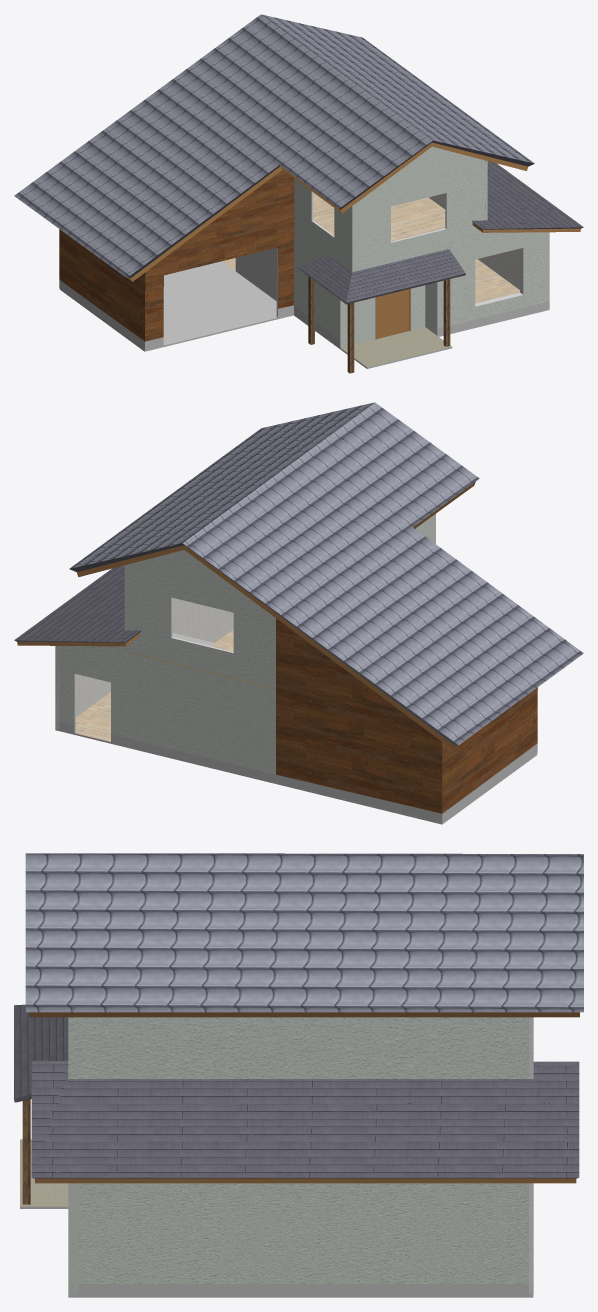
The model's file is house2.fbx.
The picture shows the model from 3 angles, top to bottom: view 1: azimuth 30°, elevation 25°; view 2: azimuth 150°, elevation 25°; view 3: azimuth 270°, elevation 25°; orthographic projection. The views are drawn at different scales.
Parts seen in each view (by area): view 1: 屋根１, 立方体, 床１, 玄関屋根, 屋根２, 床２, 立方体.001; view 2: 屋根１, 立方体, 屋根２, 床１, 床２; view 3: 屋根１, 立方体, 屋根２, 玄関屋根, 床１.
Boxes of the visible parts, x1,y1,x2,y2 form: 屋根１: [14, 14, 534, 281]; 立方体: [59, 146, 549, 350]; 床１: [59, 258, 549, 368]; 玄関屋根: [297, 249, 465, 373]; 屋根２: [472, 161, 583, 232]; 床２: [313, 192, 445, 271]; 立方体.001: [377, 289, 409, 338]; 屋根１: [69, 402, 583, 749]; 立方体: [55, 514, 537, 822]; 屋根２: [14, 565, 140, 646]; 床１: [55, 692, 537, 824]; 床２: [124, 629, 275, 689]; 屋根１: [25, 853, 583, 1017]; 立方体: [68, 1017, 533, 1295]; 屋根２: [31, 1061, 579, 1183]; 玄関屋根: [14, 1004, 68, 1204]; 床１: [20, 1139, 533, 1297].
Bounding box in the file's own units: 5645 × 2858 × 4304.
